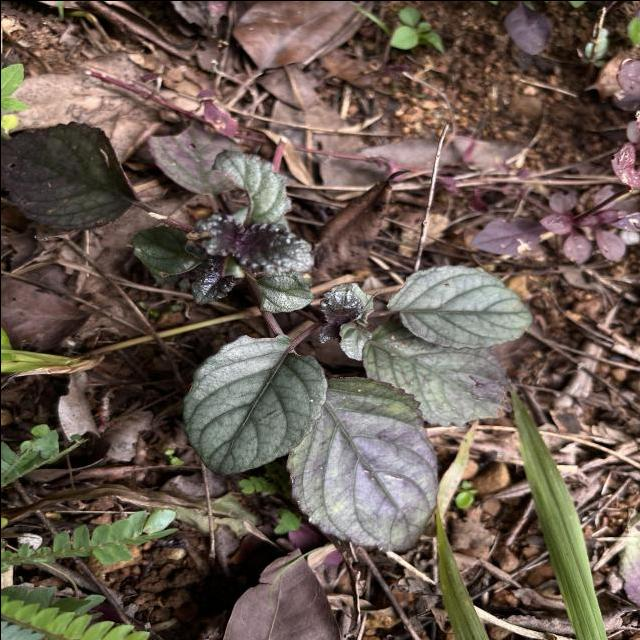Hemigraphis colorata: (280, 374, 440, 554), (178, 330, 328, 477), (358, 316, 518, 428), (384, 262, 534, 350)
